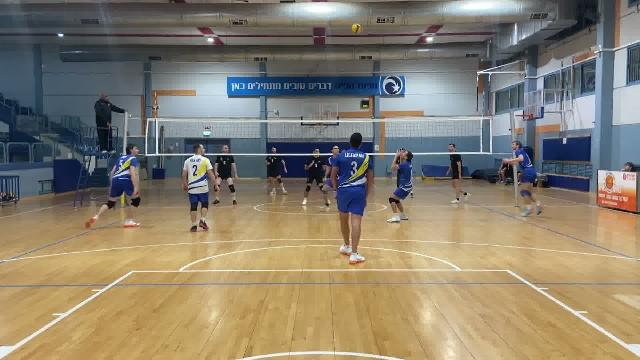ball: (352, 23, 363, 34)
